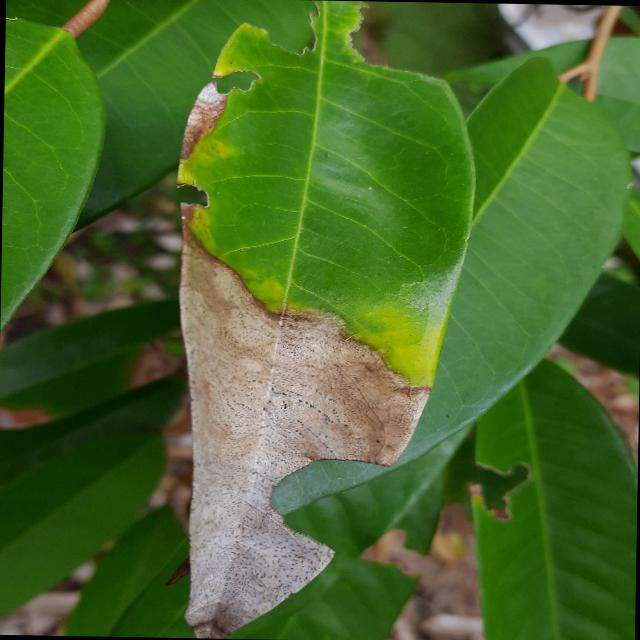Leaf Blight: (163, 0, 490, 639)
